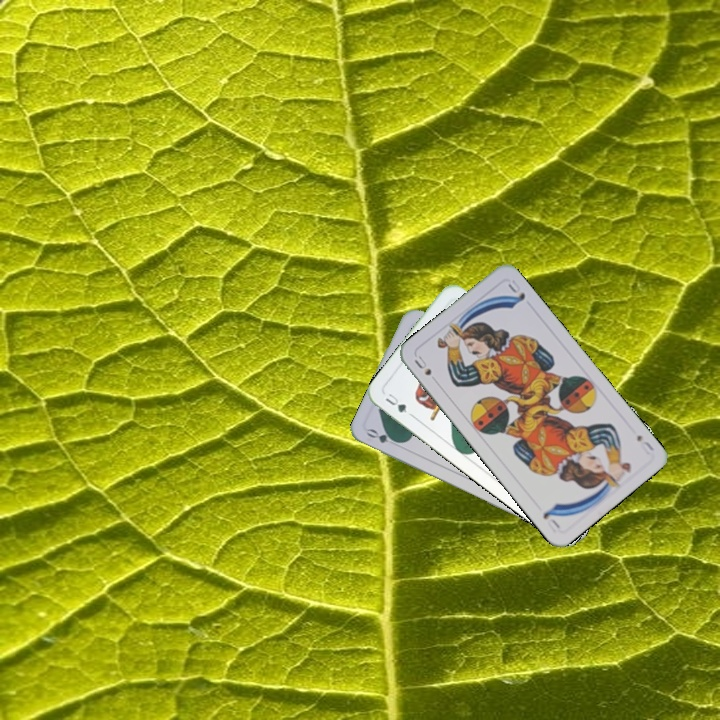GO: (363, 424, 403, 449)
GU: (381, 388, 410, 416)
SU: (410, 351, 434, 378), (632, 431, 656, 457)
